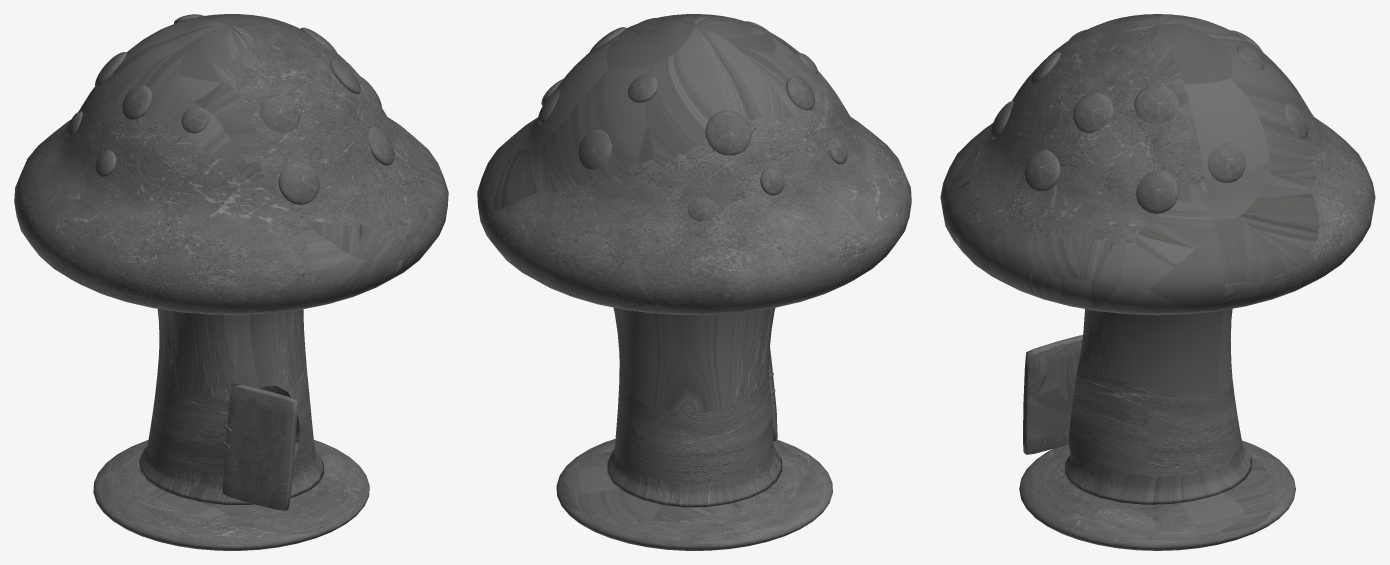
Rendered from MushroomCave.fbx.
3 renders of one model, left to right at view 1: azimuth 30°, elevation 25°; view 2: azimuth 150°, elevation 25°; view 3: azimuth 270°, elevation 25°, orthographic.
Visible parts, largest first — view 1: MushroomHead, MushroomHouse, Land, MushrromDoor, Spoors, Spoors1, Spoors13, Spoors3, Spoors11, Spoors2; view 2: MushroomHead, MushroomHouse, Land, Spoors6, Spoors7, Spoors13, Spoors10, Spoors5, Spoors14; view 3: MushroomHead, MushroomHouse, Land, MushrromDoor, Spoors4, Spoors9, Spoors2, Spoors8, Spoors3, Spoors7.
Part boxes in pixels (x1,y1,x2,y2): MushroomHead: [14, 14, 448, 314]; MushroomHouse: [138, 309, 324, 504]; Land: [93, 440, 369, 550]; MushrromDoor: [223, 384, 297, 510]; Spoors: [278, 162, 319, 204]; Spoors1: [259, 95, 299, 132]; Spoors13: [122, 85, 152, 119]; Spoors3: [368, 126, 394, 165]; Spoors11: [181, 106, 208, 133]; Spoors2: [329, 59, 360, 93]; MushroomHead: [477, 14, 911, 315]; MushroomHouse: [606, 307, 782, 507]; Land: [556, 439, 832, 550]; Spoors6: [705, 110, 751, 155]; Spoors7: [578, 130, 611, 169]; Spoors13: [786, 76, 815, 110]; Spoors10: [628, 74, 658, 102]; Spoors5: [688, 196, 718, 221]; Spoors14: [760, 167, 784, 195]; MushroomHead: [940, 14, 1375, 315]; MushroomHouse: [1064, 308, 1251, 504]; Land: [1019, 440, 1295, 550]; MushrromDoor: [1023, 335, 1082, 454]; Spoors4: [1136, 170, 1178, 213]; Spoors9: [1134, 84, 1179, 123]; Spoors2: [1073, 92, 1113, 132]; Spoors8: [1207, 142, 1245, 182]; Spoors3: [1025, 149, 1060, 191]; Spoors7: [1285, 102, 1308, 139].
Size of the model in its own units: 5.03 by 6.17 by 5.03.
